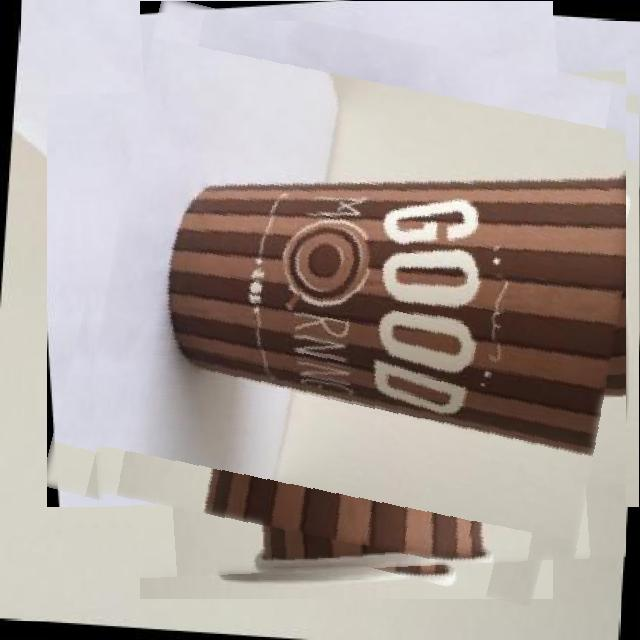non-biodegradable: (67, 21, 626, 580)
